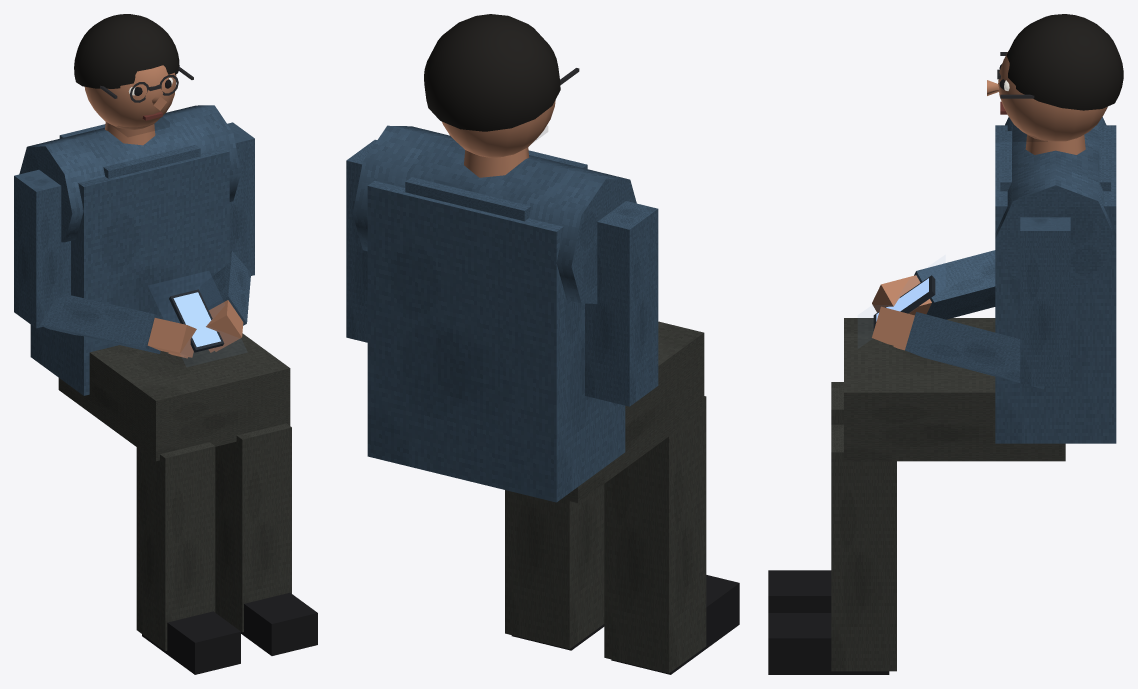
Rendered from npc_dad.glb.
The picture shows the model from 3 angles, left to right: view 1: azimuth 30°, elevation 25°; view 2: azimuth 150°, elevation 25°; view 3: azimuth 270°, elevation 25°; orthographic projection. The views are drawn at different scales.
Visible parts, largest first — view 1: character_parent_02_Dad_root_Buffer_01, character_parent_02_Dad_root_Buffer_02, Head, character_parent_02_Dad_root_Buffer_03, character_parent_02_Dad_root_Buffer_04, Phone; view 2: character_parent_02_Dad_root_Buffer_01, character_parent_02_Dad_root_Buffer_02, Head, character_parent_02_Dad_root_Buffer_03, character_parent_02_Dad_root_Buffer_04; view 3: character_parent_02_Dad_root_Buffer_01, character_parent_02_Dad_root_Buffer_02, Head, character_parent_02_Dad_root_Buffer_03, character_parent_02_Dad_root_Buffer_04, Phone.
Part boxes in pixels (x1,y1,x2,y2): character_parent_02_Dad_root_Buffer_01: (14, 105, 254, 395); character_parent_02_Dad_root_Buffer_02: (58, 333, 291, 650); Head: (74, 14, 193, 136); character_parent_02_Dad_root_Buffer_03: (142, 592, 317, 674); character_parent_02_Dad_root_Buffer_04: (105, 122, 243, 358); Phone: (169, 289, 224, 352); character_parent_02_Dad_root_Buffer_01: (346, 125, 658, 502); character_parent_02_Dad_root_Buffer_02: (505, 321, 706, 673); Head: (424, 14, 579, 157); character_parent_02_Dad_root_Buffer_03: (511, 575, 739, 674); character_parent_02_Dad_root_Buffer_04: (464, 147, 529, 177); character_parent_02_Dad_root_Buffer_01: (905, 117, 1116, 443); character_parent_02_Dad_root_Buffer_02: (831, 318, 1065, 671); Head: (987, 14, 1123, 141); character_parent_02_Dad_root_Buffer_03: (768, 570, 889, 674); character_parent_02_Dad_root_Buffer_04: (872, 134, 1085, 350); Phone: (873, 275, 935, 330).
Size of the model in its own units: 0.57 by 1.36 by 0.7048.
Materials: 13 (2 with a texture image).
